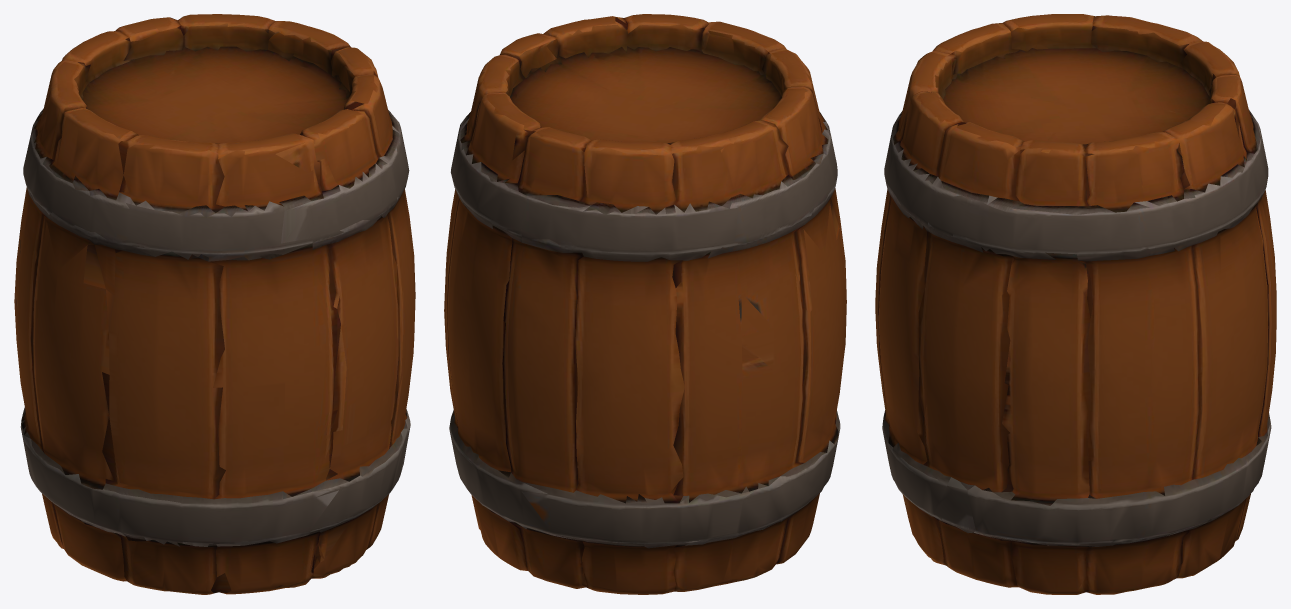
The model's file is selected_sliceable.glb.
3 renders of one model, left to right at view 1: azimuth 30°, elevation 25°; view 2: azimuth 150°, elevation 25°; view 3: azimuth 270°, elevation 25°, orthographic.
Visible parts, largest first — view 1: WORK_Barrel; view 2: WORK_Barrel; view 3: WORK_Barrel.
Part boxes in pixels (x1,y1,x2,y2): WORK_Barrel: (14,14,415,594); WORK_Barrel: (444,14,846,594); WORK_Barrel: (875,14,1276,594).
Bounding box in the file's own units: 0.8141 × 0.9982 × 0.8137.
1 material, 1 textured.
